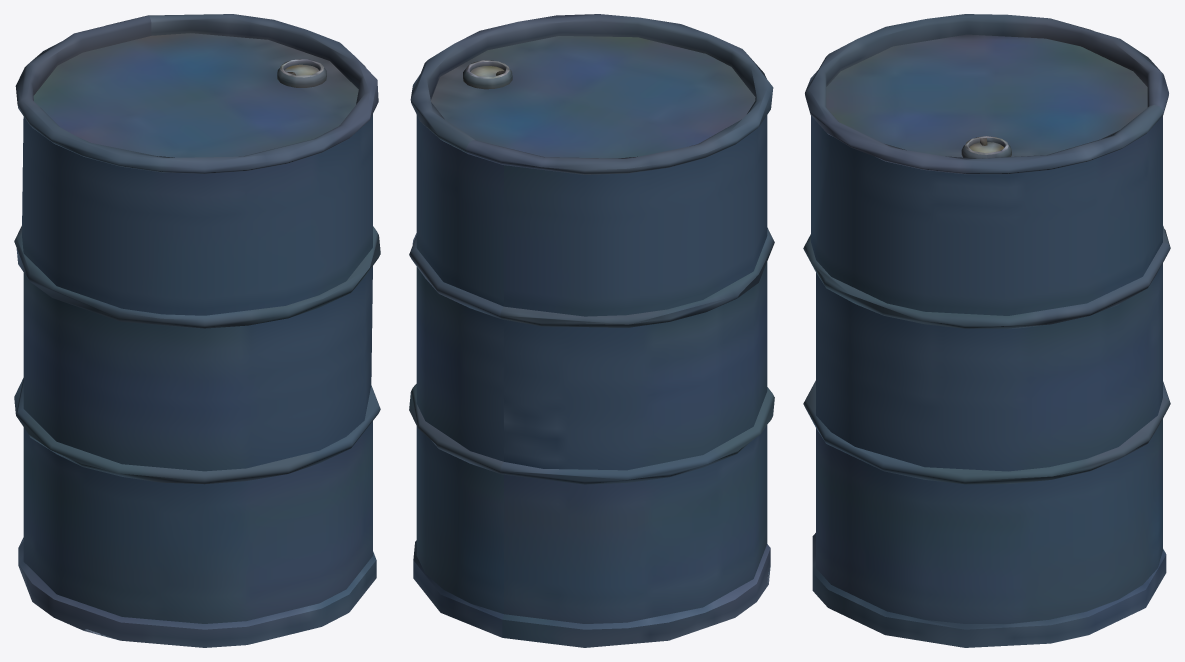
3 renders of one model, left to right at view 1: azimuth 30°, elevation 25°; view 2: azimuth 150°, elevation 25°; view 3: azimuth 270°, elevation 25°, orthographic.
Parts seen in each view (by area): view 1: barrel_03; view 2: barrel_03; view 3: barrel_03.
Part boxes in pixels (x1=…): barrel_03: x1=14, y1=14, x2=380, y2=647; barrel_03: x1=409, y1=14, x2=774, y2=647; barrel_03: x1=803, y1=14, x2=1170, y2=647.
Size of the model in its own units: 0.6339 by 0.9305 by 0.6386.
1 material, 1 textured.
